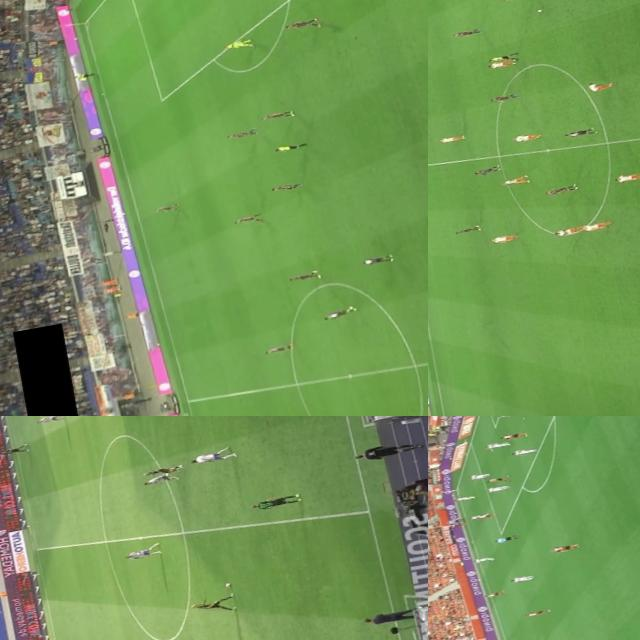ball: (219, 580, 233, 588), (532, 6, 546, 12), (346, 304, 356, 310), (452, 523, 454, 525)
player: (247, 490, 303, 510), (188, 446, 235, 464), (140, 469, 176, 487), (122, 545, 164, 560), (610, 168, 640, 187), (358, 252, 393, 268), (286, 270, 325, 284), (284, 16, 322, 30), (192, 597, 230, 611), (144, 462, 182, 476), (223, 126, 260, 140), (257, 108, 294, 122), (580, 78, 611, 94), (560, 124, 593, 139), (578, 218, 612, 232), (554, 223, 588, 237), (222, 36, 253, 51), (436, 131, 470, 144), (321, 306, 352, 320), (451, 223, 482, 237), (484, 57, 520, 69), (492, 89, 520, 104), (546, 182, 578, 195), (267, 180, 300, 192), (502, 172, 532, 185), (548, 540, 578, 553), (472, 163, 502, 175), (230, 213, 262, 224), (497, 429, 528, 440), (508, 571, 536, 583), (522, 606, 549, 618), (484, 473, 511, 485), (264, 342, 293, 353), (0, 444, 26, 456), (453, 26, 478, 38), (514, 130, 538, 142), (484, 482, 511, 492), (484, 438, 511, 448), (492, 233, 518, 243), (472, 554, 496, 564), (513, 446, 536, 456), (479, 589, 504, 598), (156, 203, 178, 213), (36, 416, 62, 424), (454, 492, 474, 502), (468, 472, 490, 479), (475, 512, 494, 520), (446, 520, 464, 528), (468, 512, 488, 519)
